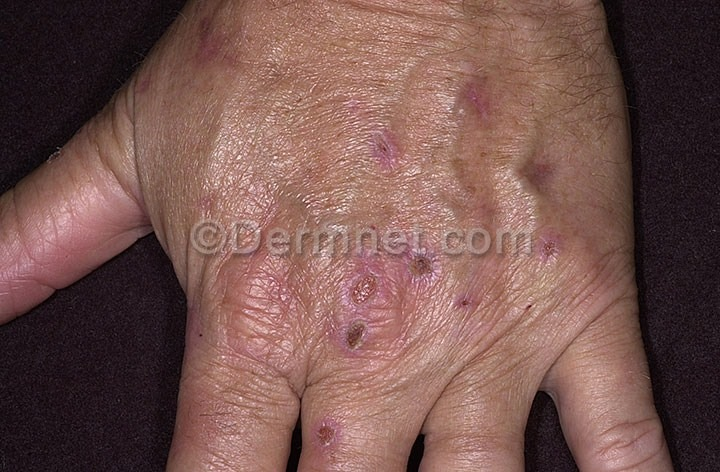Melasma: (208, 255, 513, 407), (446, 42, 591, 212), (319, 52, 423, 200), (182, 5, 266, 94), (305, 373, 354, 472), (535, 189, 576, 269)
